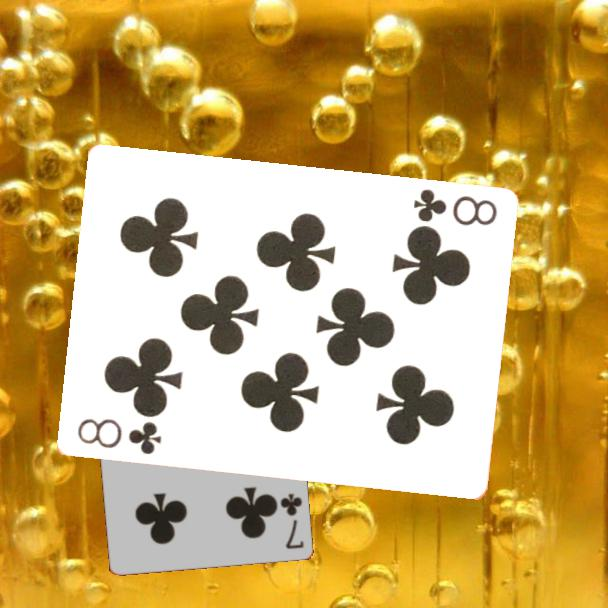c07: (276, 490, 306, 552)
c08: (409, 185, 500, 229), (73, 415, 164, 458)
